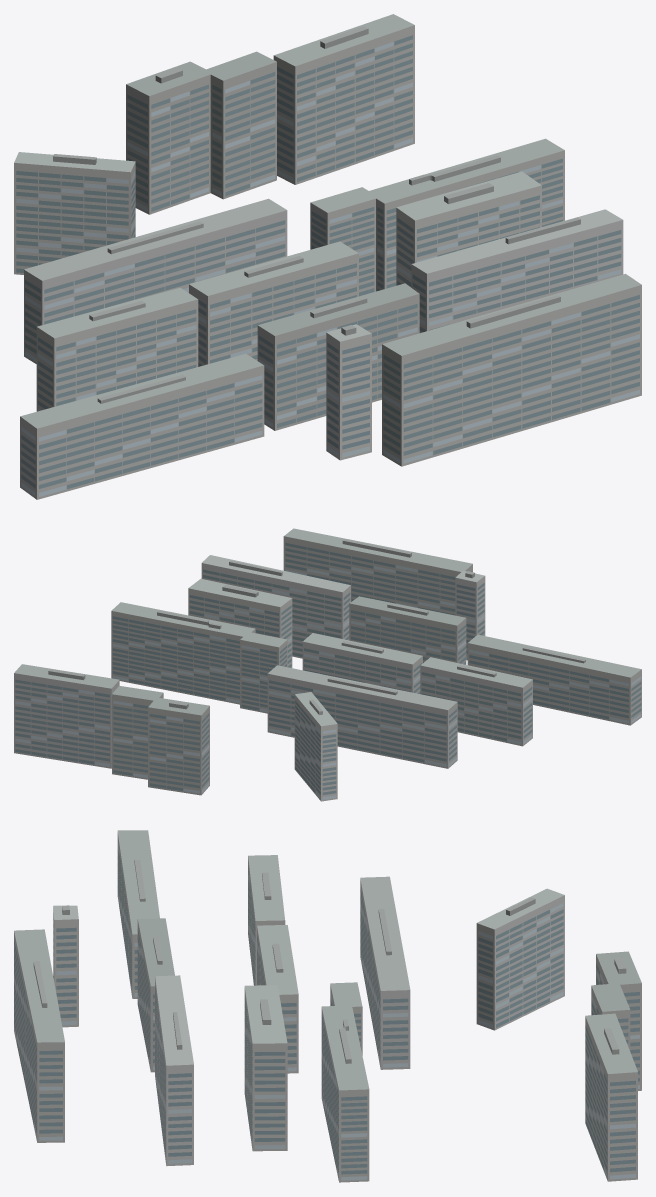
Rendered from apt-a13276415.glb.
The picture shows the model from 3 angles, top to bottom: view 1: azimuth 30°, elevation 25°; view 2: azimuth 150°, elevation 25°; view 3: azimuth 270°, elevation 25°; orthographic projection. The views are drawn at different scales.
Visible parts, largest first — view 1: apt-a13276415; view 2: apt-a13276415; view 3: apt-a13276415.
Part boxes in pixels (x1,y1,x2,y2): apt-a13276415: [14, 14, 641, 499]; apt-a13276415: [14, 528, 641, 801]; apt-a13276415: [14, 830, 641, 1182].
Bounding box in the file's own units: 262 × 47.81 × 242.
